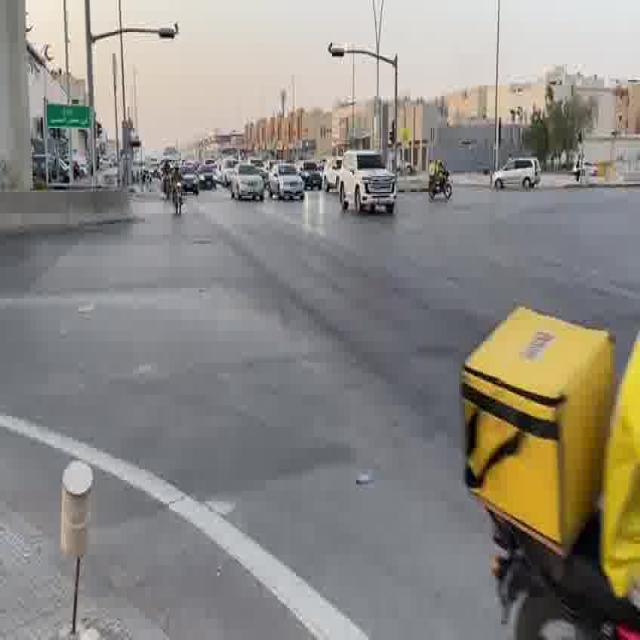car: (179, 209, 640, 640)
lanes: (226, 209, 639, 634)
lanes2: (260, 205, 640, 474)
lanes3: (286, 204, 640, 403)
lanes4: (321, 210, 640, 361)
